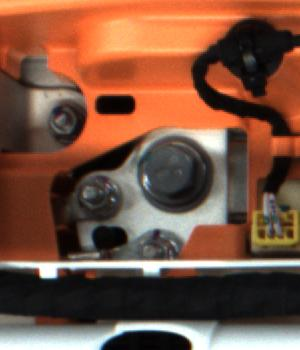nut_b: (128, 134, 226, 216)
